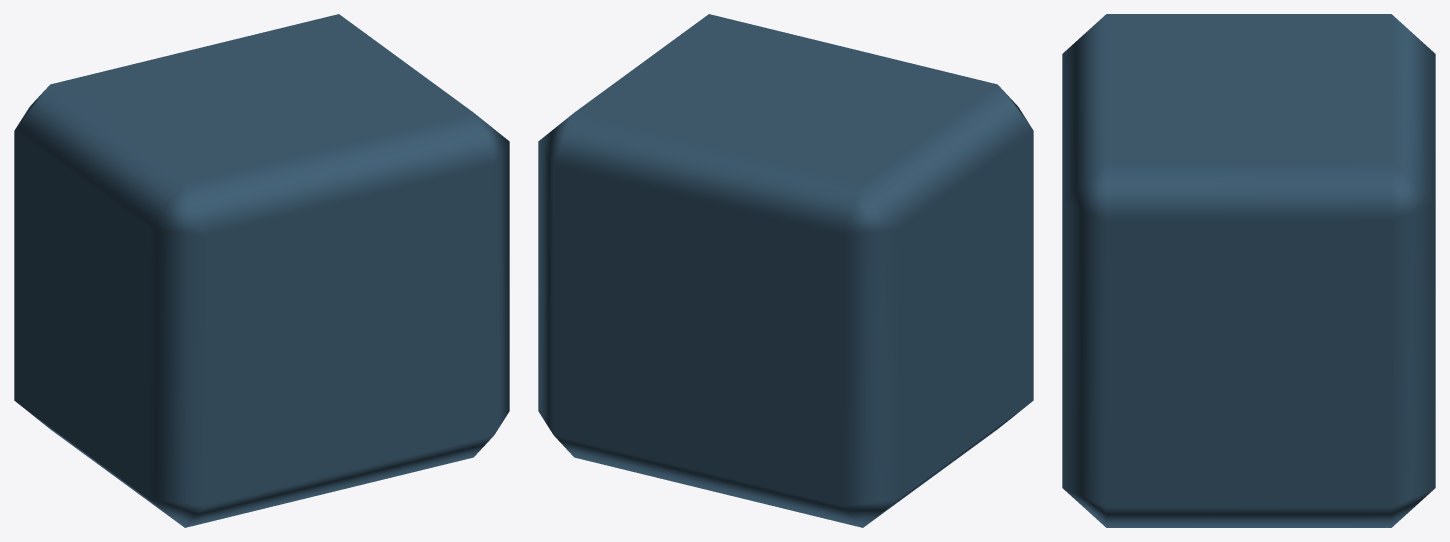
File: CM_Accessory_Hood_Shoplifter.fbx
The picture shows the model from 3 angles, left to right: view 1: azimuth 30°, elevation 25°; view 2: azimuth 150°, elevation 25°; view 3: azimuth 270°, elevation 25°; orthographic projection. The views are drawn at different scales.
Visible parts, largest first — view 1: Handle; view 2: Handle; view 3: Handle.
Boxes of the visible parts, x1=… form: Handle: x1=14, y1=14, x2=509, y2=527; Handle: x1=538, y1=14, x2=1033, y2=527; Handle: x1=1062, y1=14, x2=1435, y2=527.
Size of the model in its own units: 1.5 by 1.27 by 1.37.
Materials: 1 (1 with a texture image).
